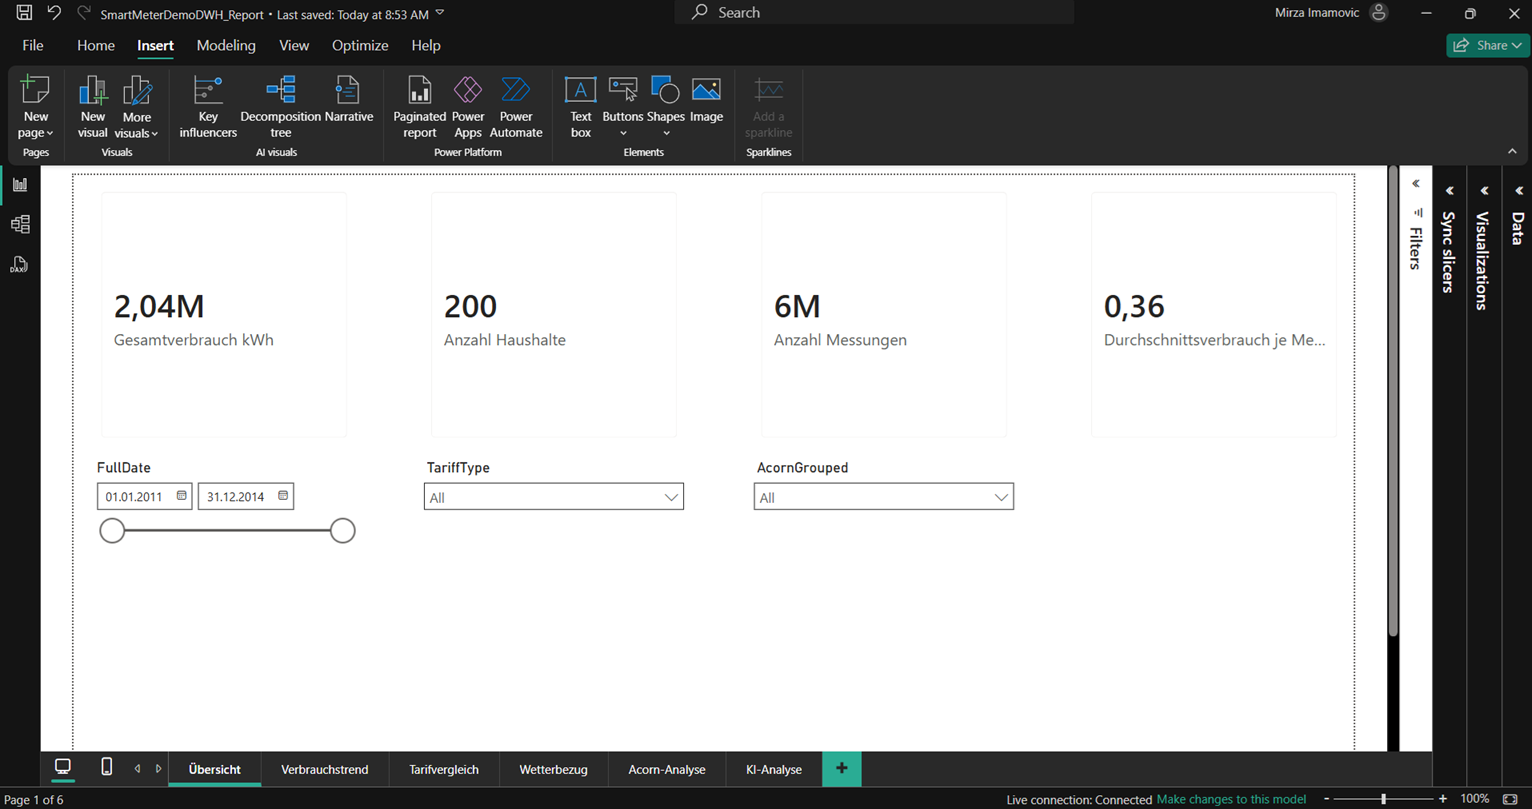

This screenshot's page, from the dashboard's own definition file:
{"tool":"powerbi","page":{"name":"Übersicht","canvas":[1280,720],"ordinal":0},"visuals":[{"type":"cardVisual","fields":{"Data":["Fact_Consumption.Gesamtverbrauch kWh"]},"box":[10,0,280,280],"z":0},{"type":"cardVisual","fields":{"Data":["Fact_Consumption.Anzahl Haushalte"]},"box":[340.2,0,279.9,279.9],"z":1},{"type":"cardVisual","fields":{"Data":["Fact_Consumption.Anzahl Messungen"]},"box":[670.3,0,279.9,279.9],"z":2},{"type":"cardVisual","fields":{"Data":["Fact_Consumption.Durchschnittsverbrauch je Messung"]},"box":[1000.1,0,279.9,279.9],"z":3},{"type":"slicer","fields":{"Values":["Dim_Date.FullDate"]},"box":[10,278.6,280,280],"z":4},{"type":"slicer","fields":{"Values":["Dim_Tariff.TariffType"]},"box":[340,278.6,279.9,150.9],"z":5},{"type":"slicer","fields":{"Values":["Dim_Household.AcornGrouped"]},"box":[670,278.6,280,150],"z":6}]}

Visuals, with their boxes on the page's 1280x720 design canvas (x1, y1, x2, y2). These are canvas units, not pixel positions in the 1532x809 screenshot, which may show the page scaled, cropped or inside an application window:
cardVisual - Fact_Consumption.Gesamtverbrauch kWh: BBox(10, 0, 290, 280)
cardVisual - Fact_Consumption.Anzahl Haushalte: BBox(340, 0, 620, 280)
cardVisual - Fact_Consumption.Anzahl Messungen: BBox(670, 0, 950, 280)
cardVisual - Fact_Consumption.Durchschnittsverbrauch je Messung: BBox(1000, 0, 1280, 280)
slicer - Dim_Date.FullDate: BBox(10, 279, 290, 559)
slicer - Dim_Tariff.TariffType: BBox(340, 279, 620, 430)
slicer - Dim_Household.AcornGrouped: BBox(670, 279, 950, 429)
